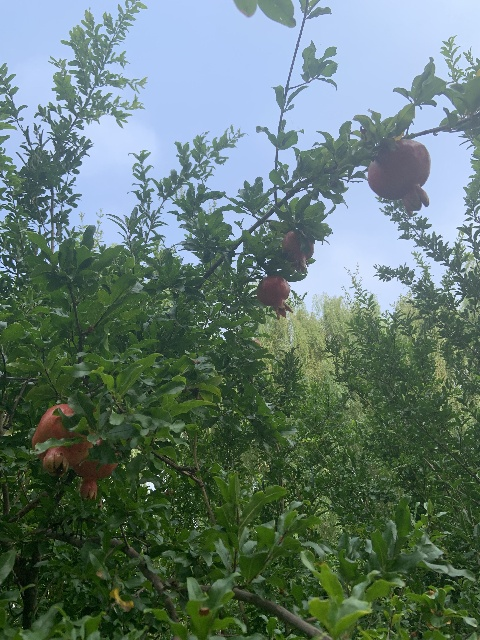ripe: (367, 139, 430, 216), (31, 403, 90, 478), (72, 438, 118, 501), (256, 275, 292, 319), (281, 230, 314, 272)
